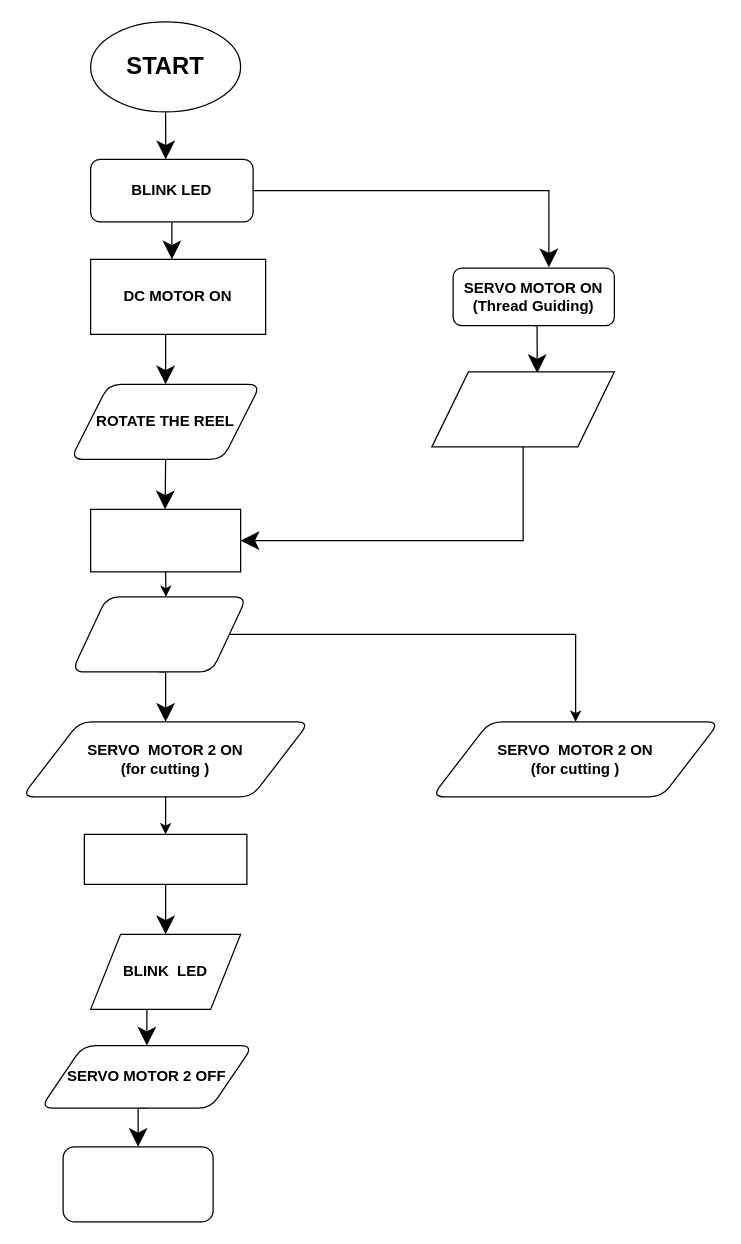
Image size: 741x1244. Some labels were removed from this diagram. The box of each missing label's shape, as (x1, y1, x2, y2) in pixels:
BLINK LED (INDICATION OF COMPLETION): (71, 596, 247, 672)
CUTS THE THREAD: (83, 833, 247, 884)
STOP: (62, 1146, 213, 1222)
UNIFORM MOTION OF THE THREAD: (431, 371, 614, 447)
WIND THREAD: (89, 508, 241, 572)
